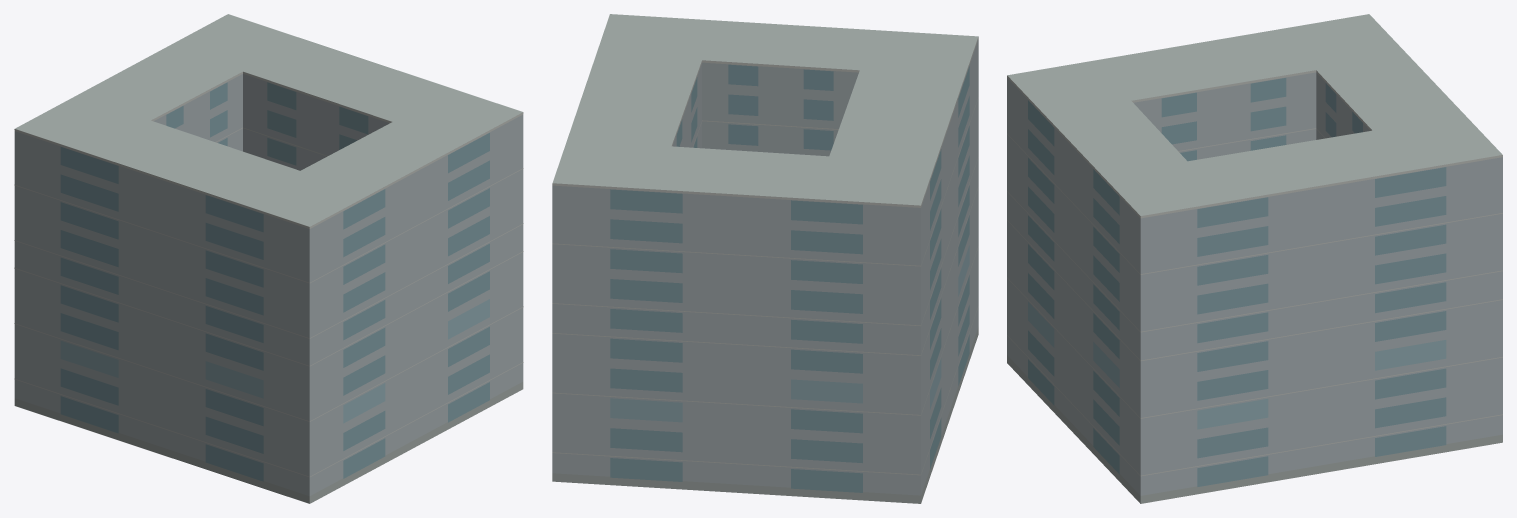
Rendered from residential-ce40a9a4-4935-4a6b-91db-7022979aefee.glb.
3 views of the same model, side by side, from view 1: azimuth 30°, elevation 25°; view 2: azimuth 150°, elevation 25°; view 3: azimuth 270°, elevation 25° (orthographic). The views are drawn at different scales.
Visible parts, largest first — view 1: residential-ce40a9a4-4935-4a6b-91db-7022979aefee.tmp; view 2: residential-ce40a9a4-4935-4a6b-91db-7022979aefee.tmp; view 3: residential-ce40a9a4-4935-4a6b-91db-7022979aefee.tmp.
Boxes of the visible parts, <box> form: residential-ce40a9a4-4935-4a6b-91db-7022979aefee.tmp: <box>14,14,523,503</box>; residential-ce40a9a4-4935-4a6b-91db-7022979aefee.tmp: <box>552,14,978,503</box>; residential-ce40a9a4-4935-4a6b-91db-7022979aefee.tmp: <box>1007,14,1502,503</box>.
Bounding box in the file's own units: 45.97 × 30.5 × 47.64.
